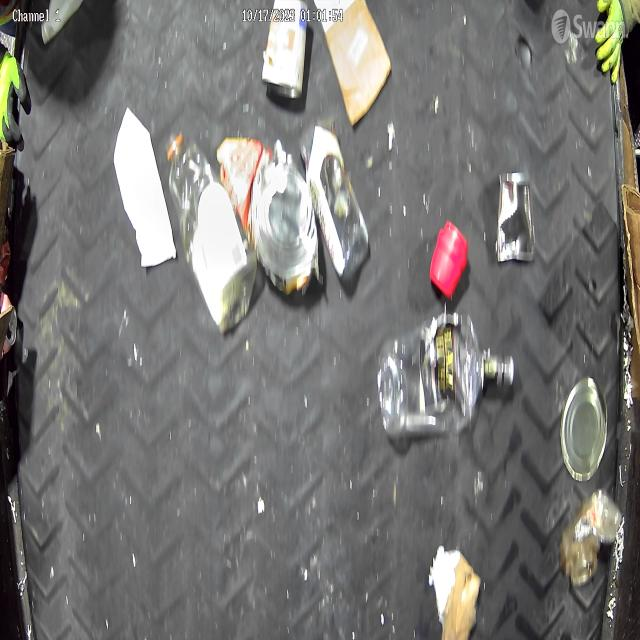can: (561, 377, 608, 481), (262, 9, 308, 102), (497, 171, 535, 264)
plastic_bottle: (166, 131, 256, 335), (377, 311, 514, 438)
